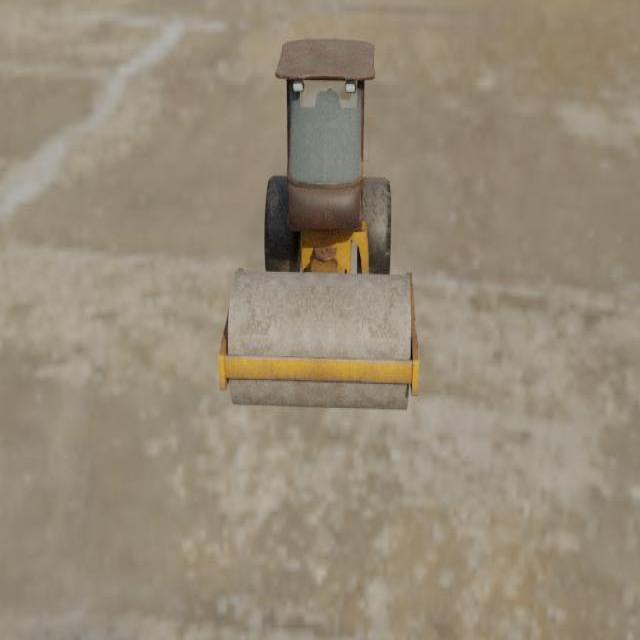Roller: (217, 37, 419, 411)
